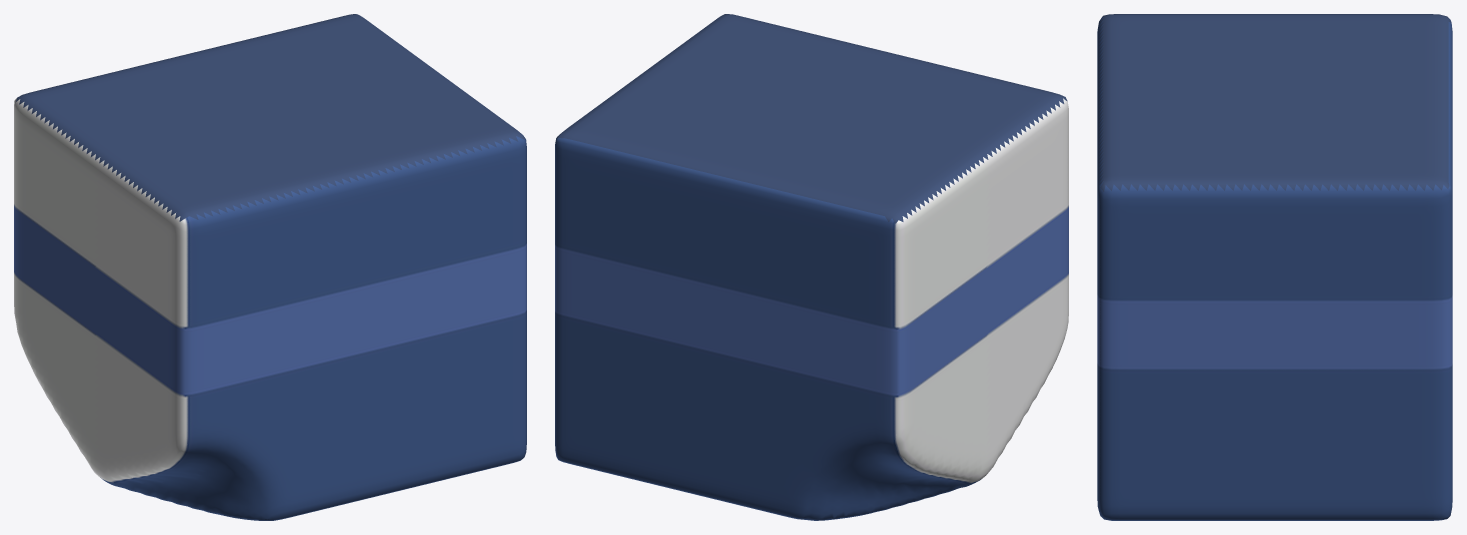
3 renders of one model, left to right at view 1: azimuth 30°, elevation 25°; view 2: azimuth 150°, elevation 25°; view 3: azimuth 270°, elevation 25°, orthographic. The views are drawn at different scales.
Parts seen in each view (by area): view 1: producto; view 2: producto; view 3: producto.
Boxes of the visible parts, x1,y1,x2,y2 form: producto: [14, 14, 526, 520]; producto: [555, 14, 1068, 520]; producto: [1097, 14, 1452, 520].
Bounding box in the file's own units: 1 × 0.9028 × 0.8564.
Materials: 1 (1 with a texture image).
